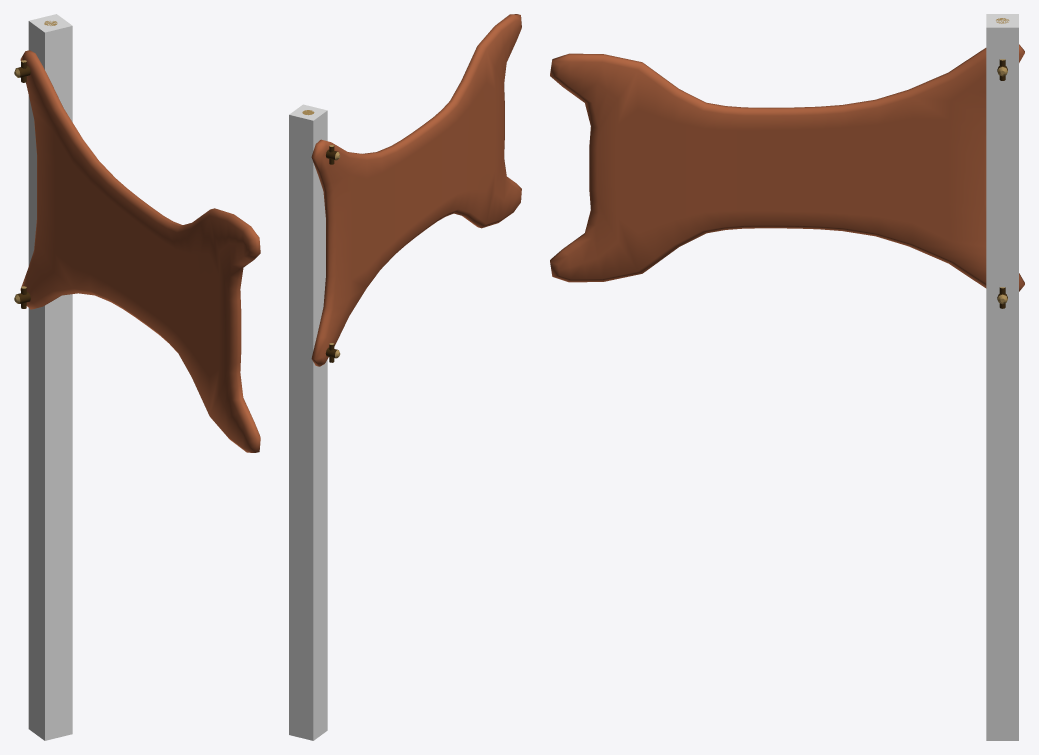
File: SM_GoblinCamp_Banner.fbx
3 renders of one model, left to right at view 1: azimuth 30°, elevation 25°; view 2: azimuth 150°, elevation 25°; view 3: azimuth 270°, elevation 25°, orthographic. The views are drawn at different scales.
Visible parts, largest first — view 1: SM_GoblinCamp_Banner, Col_GoblinCamp_Banner; view 2: SM_GoblinCamp_Banner, Col_GoblinCamp_Banner; view 3: SM_GoblinCamp_Banner, Col_GoblinCamp_Banner.
Part boxes in pixels (x1,y1,x2,y2): SM_GoblinCamp_Banner: (14,21,260,452); Col_GoblinCamp_Banner: (28,14,72,740); SM_GoblinCamp_Banner: (302,14,521,366); Col_GoblinCamp_Banner: (289,104,327,740); SM_GoblinCamp_Banner: (550,18,1024,308); Col_GoblinCamp_Banner: (986,14,1018,740).
Size of the model in its own units: 28.01 by 340 by 205.
